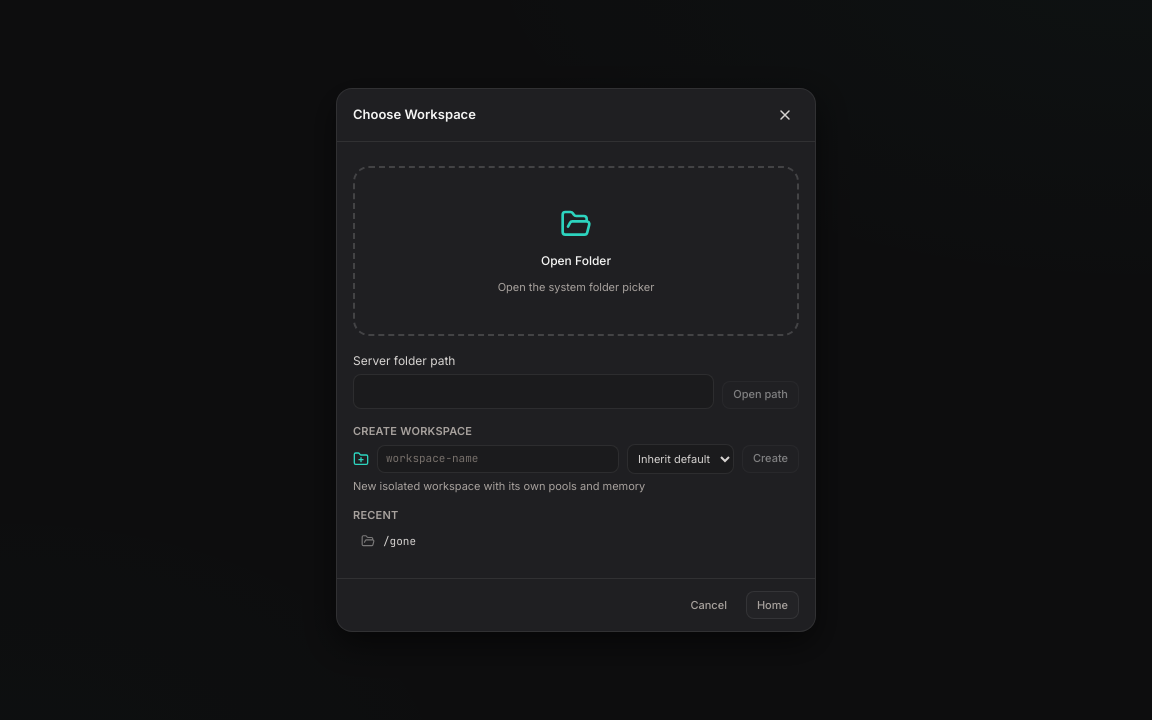
Scenario: WorkspaceBrowser › recent workspaces › shows error when recent workspace switch fails
Step 1. Click the button "/gone" → click(400, 541), box [353, 528, 799, 554]
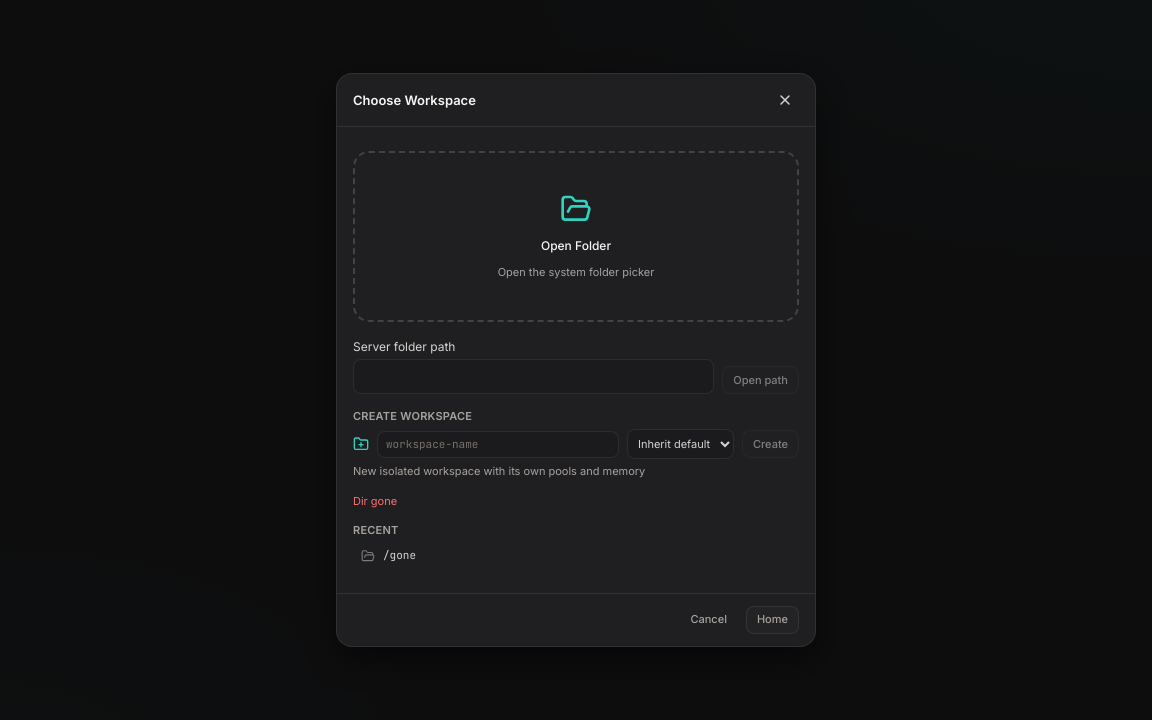
Check: the text "Dir gone" is shown, box [353, 494, 397, 508]
